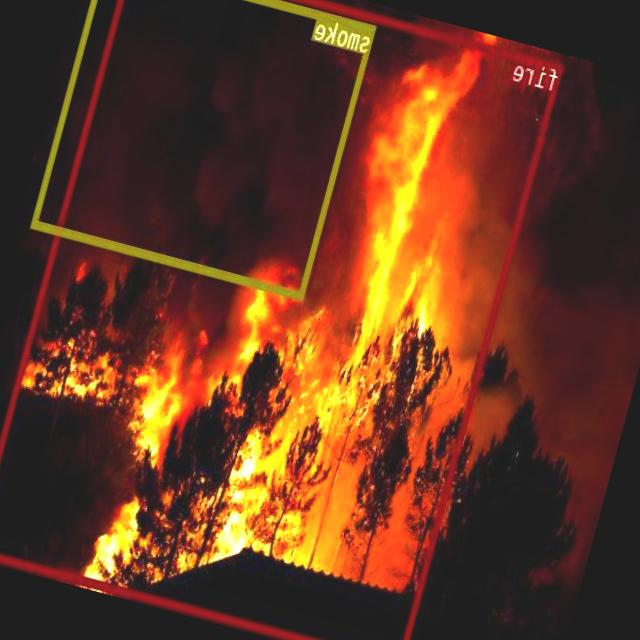fire: (0, 0, 564, 640)
smoke: (33, 0, 376, 298)
